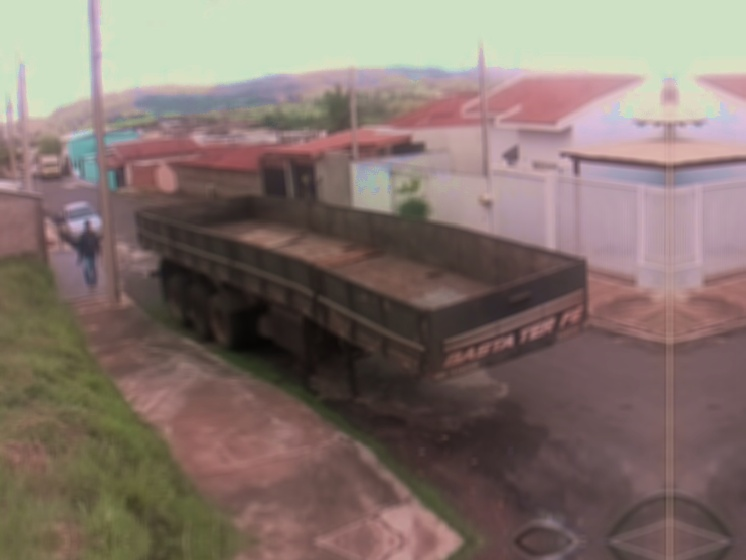person: (74, 218, 105, 293)
